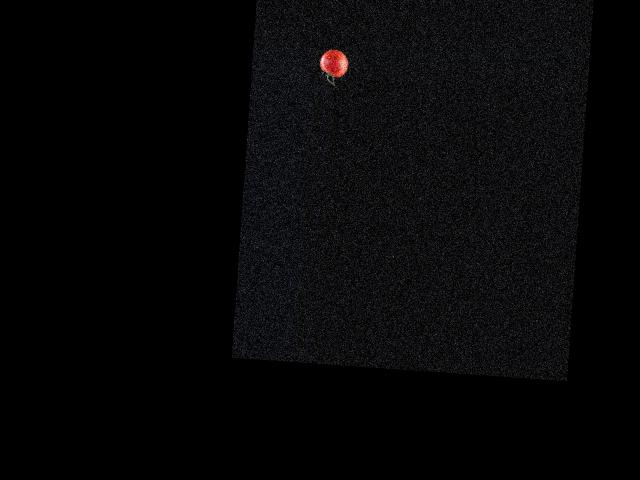tomato: (319, 48, 349, 78)
